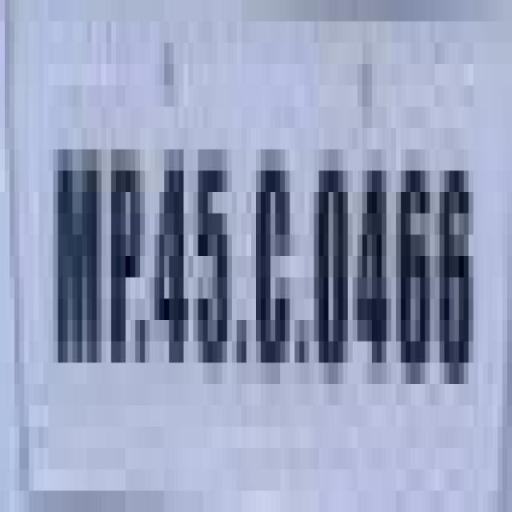number plate: (24, 0, 512, 490)
